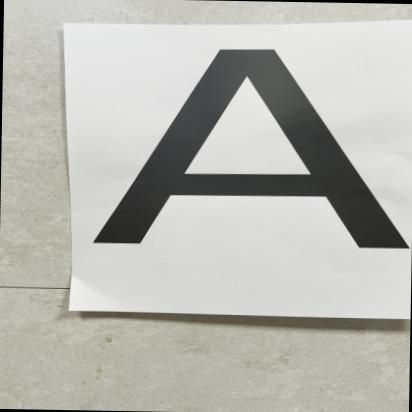seat: (82, 40, 412, 256)
